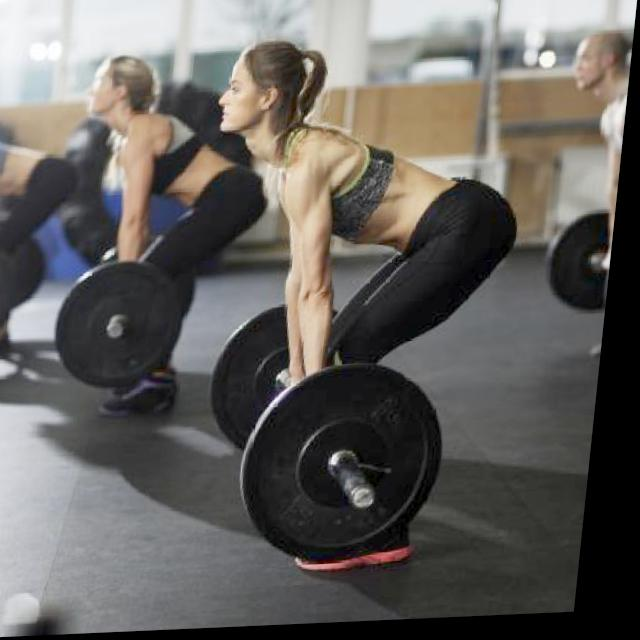barbell: (241, 361, 464, 569), (53, 256, 200, 399)
